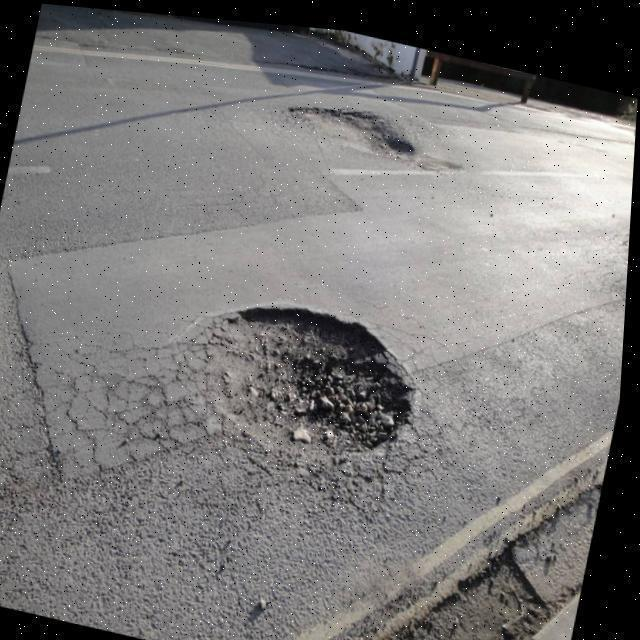Pothole: (198, 304, 418, 456), (280, 105, 418, 159)
